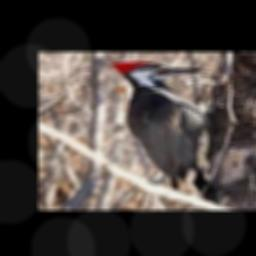Woodpecker: (112, 61, 213, 203)
